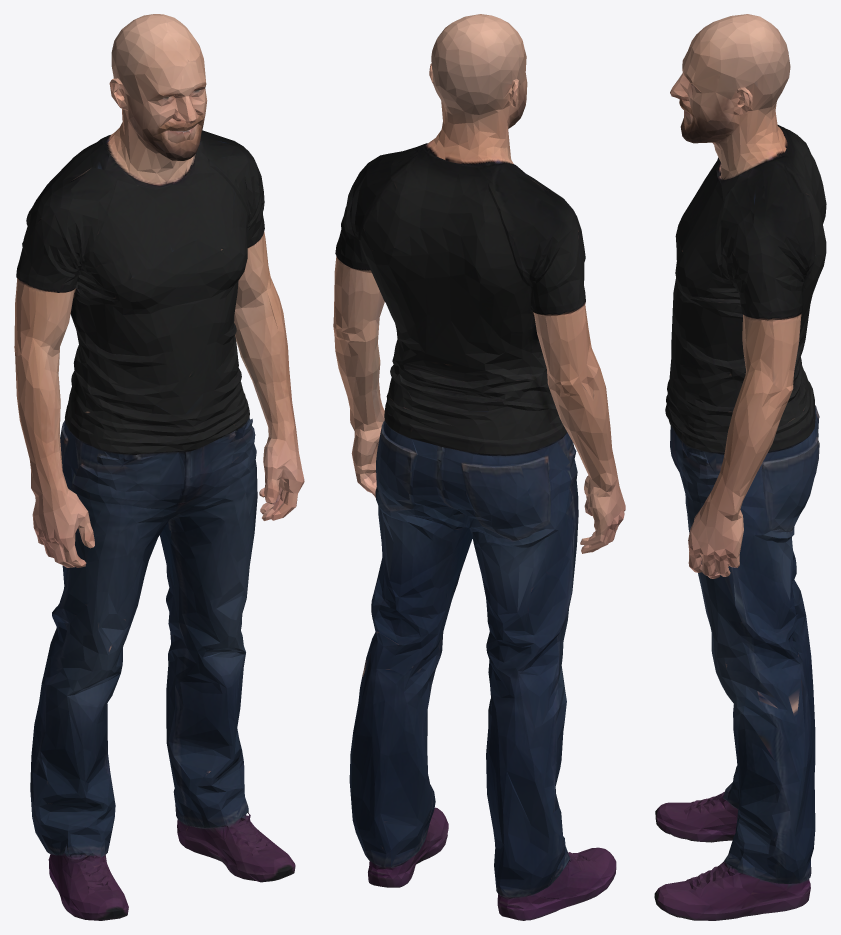
The model's file is viktor.glb.
3 renders of one model, left to right at view 1: azimuth 30°, elevation 25°; view 2: azimuth 150°, elevation 25°; view 3: azimuth 270°, elevation 25°, orthographic.
Parts seen in each view (by area): view 1: Mesh_0.002; view 2: Mesh_0.002; view 3: Mesh_0.002.
Part boxes in pixels (left/top/right/bottom): Mesh_0.002: left=14, top=14, right=304, bottom=920; Mesh_0.002: left=333, top=14, right=625, bottom=920; Mesh_0.002: left=654, top=14, right=826, bottom=920.
Bounding box in the file's own units: 0.6154 × 1.9 × 0.3473.
1 material, 1 textured.
